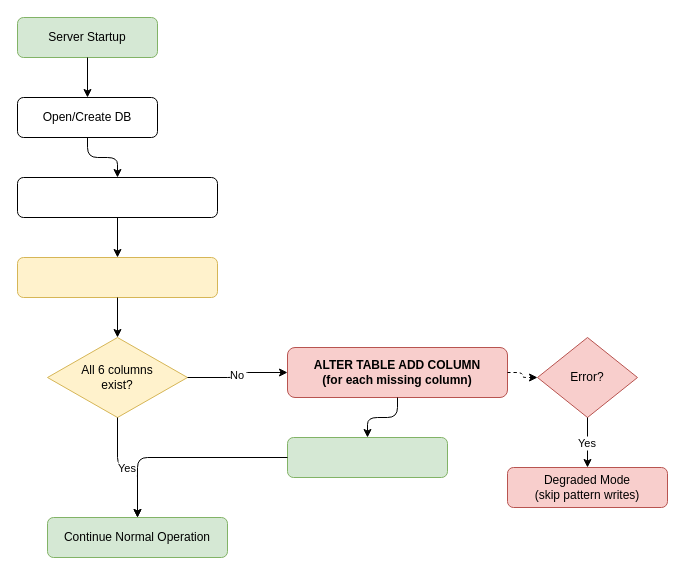
Some shapes in this 685 by 575 pixel diagram are drawn without their labels. The shapes that lost their labels are listed below. From the top down, each one's centre as x and y in pixels, then its label:
(x=117, y=197): Apply Schema V1 (CREATE TABLE IF NOT EXISTS)
(x=117, y=277): PRAGMA table_info(modules)
(x=367, y=457): Log: N columns added
